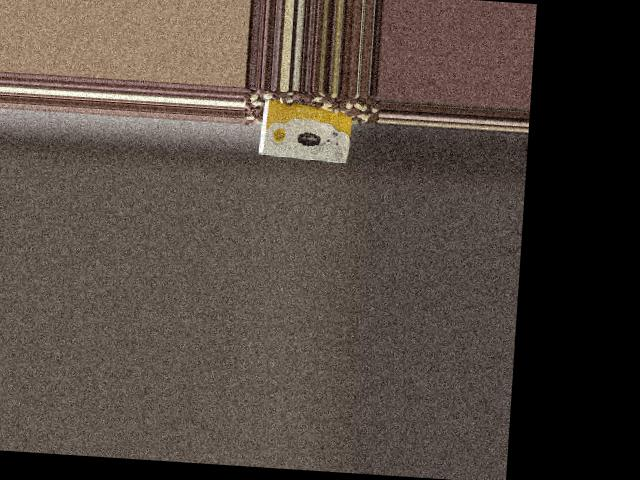chocolate: (253, 96, 358, 166)
